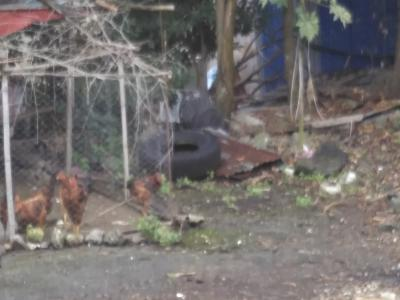tire: (136, 128, 222, 182)
